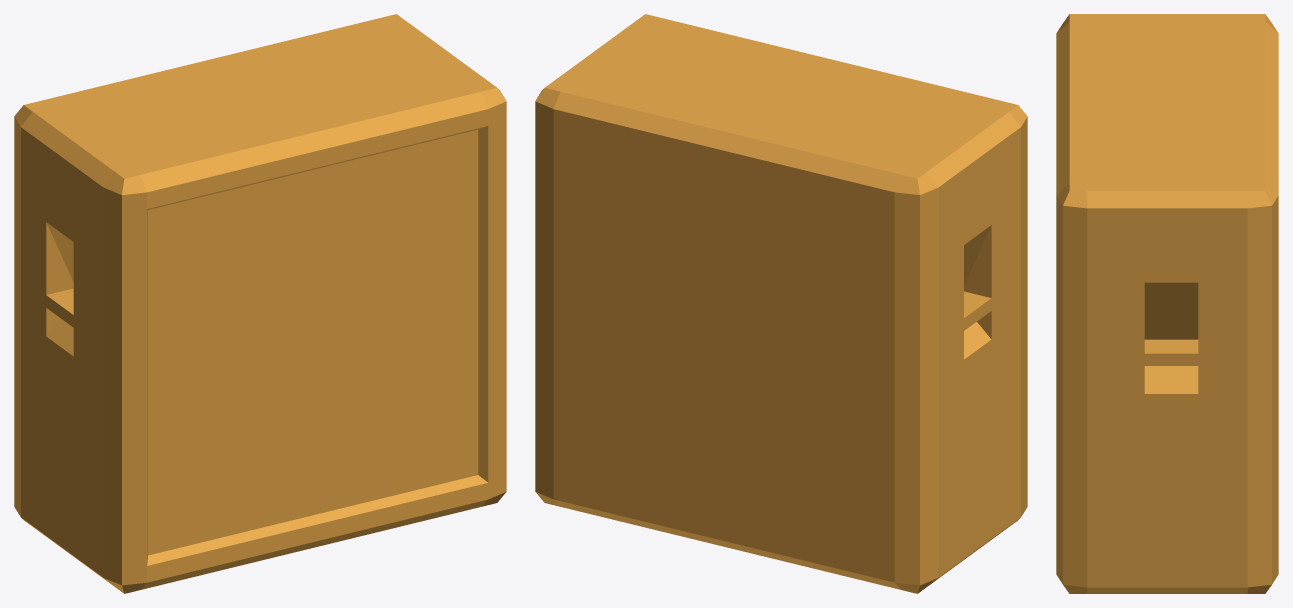
Rendered from speaker-guitar.fbx.
The picture shows the model from 3 angles, left to right: view 1: azimuth 30°, elevation 25°; view 2: azimuth 150°, elevation 25°; view 3: azimuth 270°, elevation 25°; orthographic projection. The views are drawn at different scales.
Visible parts, largest first — view 1: speaker-guitar; view 2: speaker-guitar; view 3: speaker-guitar.
Part boxes in pixels (<box>): speaker-guitar: <box>14,14,506,593</box>; speaker-guitar: <box>535,14,1027,593</box>; speaker-guitar: <box>1056,14,1278,593</box>.
Bounding box in the file's own units: 1 × 1 × 0.5.
